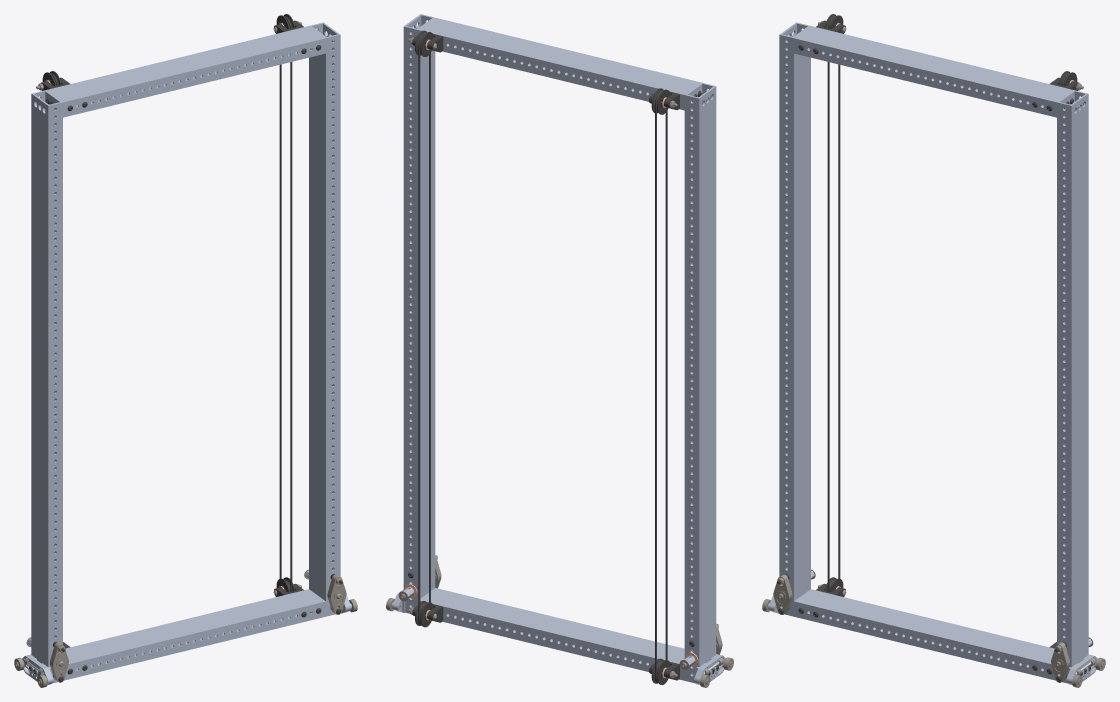
3 views of the same model, side by side, from view 1: azimuth 30°, elevation 25°; view 2: azimuth 150°, elevation 25°; view 3: azimuth 330°, elevation 25° (orthographic).
Parts seen in each view (by area): view 1: (3) 2nd V tube (×2), (3) 2nd H tube (×2), (3) String 1; view 2: (3) 2nd V tube (×2), (3) 2nd H tube (×2), (3) String 1 (×2); view 3: (3) 2nd V tube (×2), (3) 2nd H tube (×2), (3) String 1.
Part boxes in pixels (bbox=[...]): (3) 2nd V tube (×2): bbox=[31, 22, 340, 683]; (3) 2nd H tube (×2): bbox=[46, 26, 325, 680]; (3) String 1: bbox=[279, 16, 292, 591]; (3) 2nd V tube (×2): bbox=[403, 14, 716, 683]; (3) 2nd H tube (×2): bbox=[418, 17, 701, 680]; (3) String 1 (×2): bbox=[418, 32, 667, 682]; (3) 2nd V tube (×2): bbox=[779, 22, 1088, 683]; (3) 2nd H tube (×2): bbox=[794, 26, 1073, 680]; (3) String 1: bbox=[827, 16, 840, 591].
Bounding box in the file's own units: 0.5496 × 0.9737 × 0.1207.
